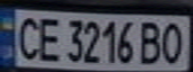1: (100, 17, 121, 64)
2: (81, 17, 103, 64)
3: (60, 16, 84, 63)
6: (115, 17, 139, 65)
B: (136, 18, 166, 65)
C: (12, 12, 42, 62)
E: (33, 14, 63, 63)
O: (157, 19, 190, 65)
